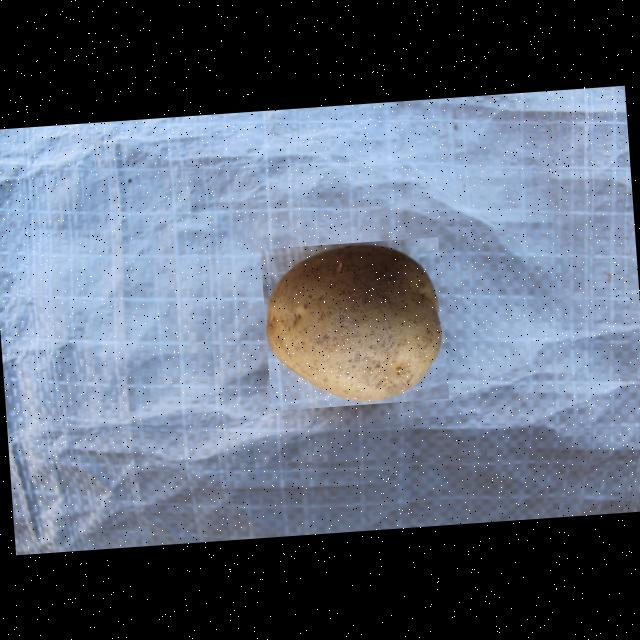Diseased-fungal potato: (260, 237, 449, 410)
